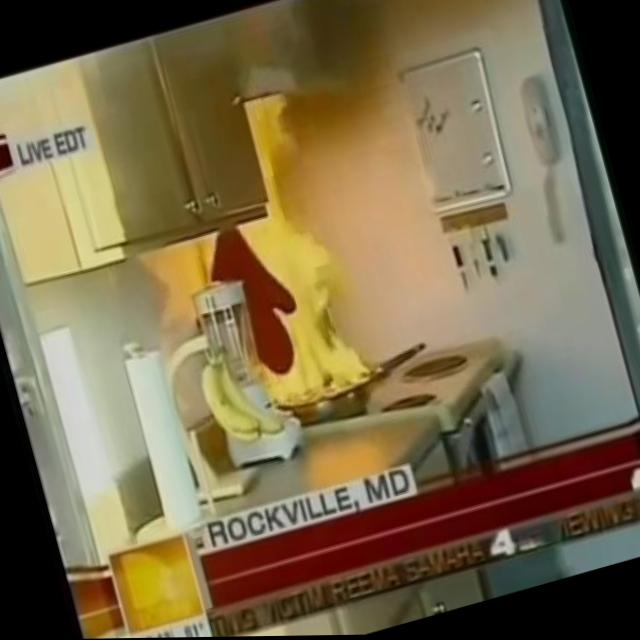fire: (157, 83, 381, 425)
